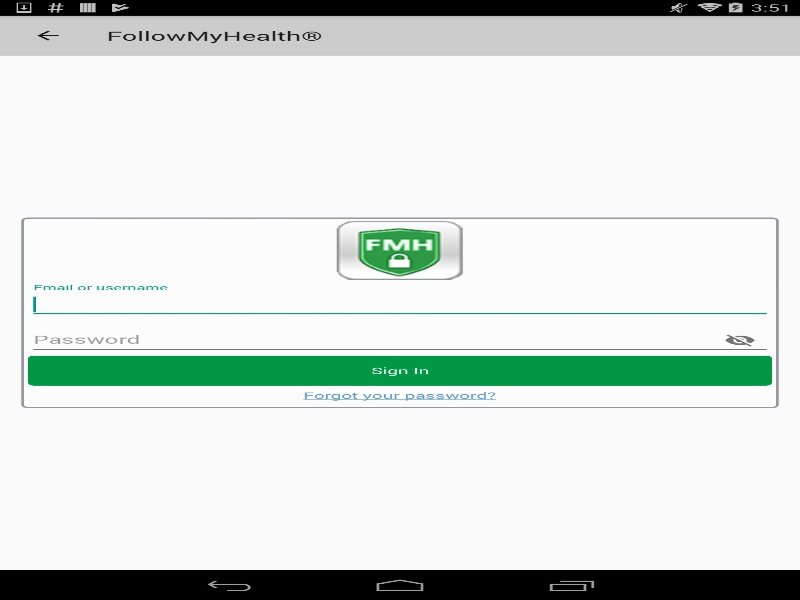Button: (28, 355, 772, 385), (10, 15, 85, 55), (708, 325, 772, 355)
Input: (28, 290, 772, 318), (28, 326, 772, 354)
